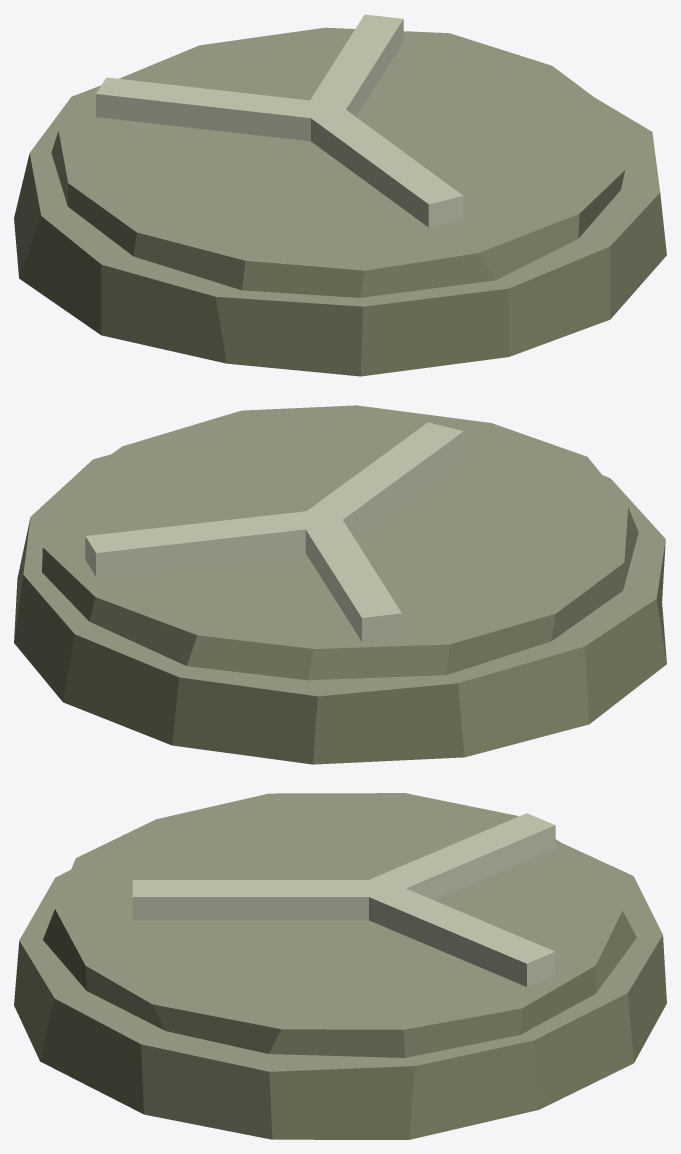
Rendered from Spellstone_Wild.glb.
The picture shows the model from 3 angles, top to bottom: view 1: azimuth 30°, elevation 25°; view 2: azimuth 150°, elevation 25°; view 3: azimuth 270°, elevation 25°; orthographic projection. The views are drawn at different scales.
Parts seen in each view (by area): view 1: Spellstone_Wild; view 2: Spellstone_Wild; view 3: Spellstone_Wild.
Part boxes in pixels (left/top/right/bottom): Spellstone_Wild: left=14, top=14, right=666, bottom=376; Spellstone_Wild: left=14, top=405, right=666, bottom=764; Spellstone_Wild: left=14, top=793, right=666, bottom=1139.
Bounding box in the file's own units: 0.8354 × 0.163 × 0.838.
